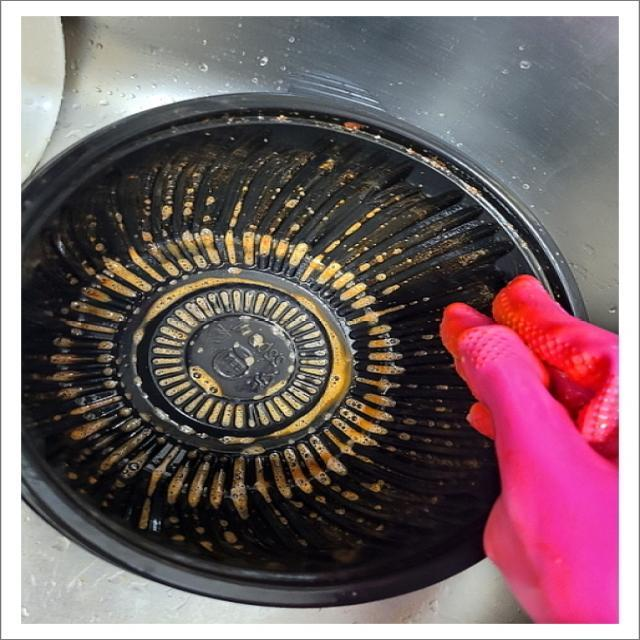container: (0, 84, 622, 611)
